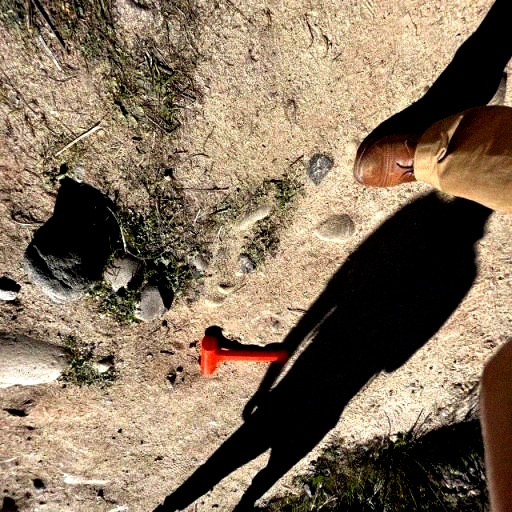mallet: (201, 336, 288, 374)
